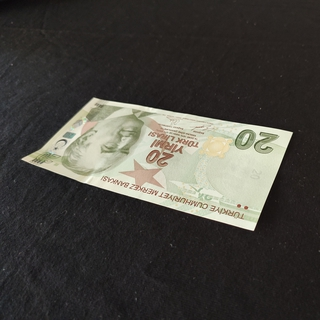20TLFront: (21, 97, 292, 230)
